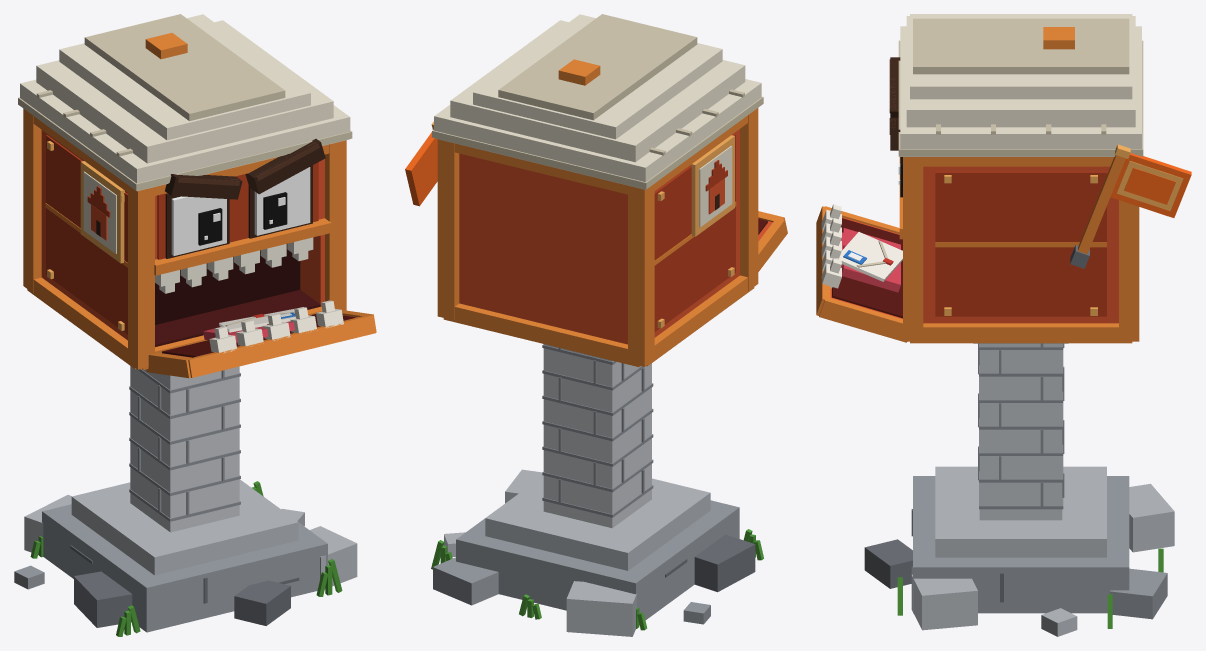
The model's file is mailbox.glb.
3 renders of one model, left to right at view 1: azimuth 30°, elevation 25°; view 2: azimuth 150°, elevation 25°; view 3: azimuth 270°, elevation 25°, orthographic. The views are drawn at different scales.
Visible parts, largest first — view 1: body_geo, root_geo, door_geo, eye_R_geo, eye_L_geo, brow_L_geo, brow_R_geo, letter_geo; view 2: body_geo, root_geo, flag_geo, door_geo; view 3: body_geo, root_geo, door_geo, flag_geo, letter_geo, tongue_geo, brow_R_geo.
Part boxes in pixels (bbox=[...]): body_geo: bbox=[18, 14, 352, 369]; root_geo: bbox=[14, 366, 357, 636]; door_geo: bbox=[146, 300, 376, 378]; eye_R_geo: bbox=[171, 196, 226, 255]; eye_L_geo: bbox=[254, 167, 310, 235]; brow_L_geo: bbox=[245, 139, 325, 194]; brow_R_geo: bbox=[165, 174, 242, 199]; letter_geo: bbox=[219, 308, 295, 332]; body_geo: bbox=[432, 14, 763, 366]; root_geo: bbox=[431, 344, 763, 636]; flag_geo: bbox=[405, 121, 437, 206]; door_geo: bbox=[758, 211, 787, 271]; body_geo: bbox=[898, 14, 1143, 343]; root_geo: bbox=[864, 343, 1174, 636]; door_geo: bbox=[816, 204, 907, 342]; flag_geo: bbox=[1070, 144, 1191, 268]; letter_geo: bbox=[835, 232, 902, 281]; tongue_geo: bbox=[841, 228, 900, 292]; brow_R_geo: bbox=[889, 57, 900, 117].
Size of the model in its own units: 5.18 by 9.28 by 5.9.
